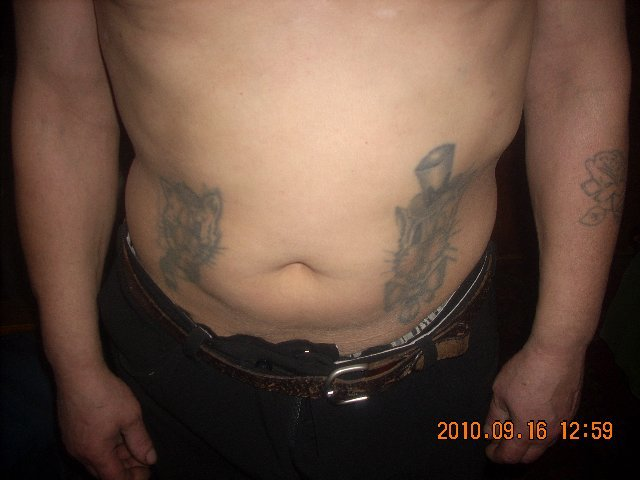tatu8_kot: (386, 142, 467, 313), (151, 174, 231, 294)
